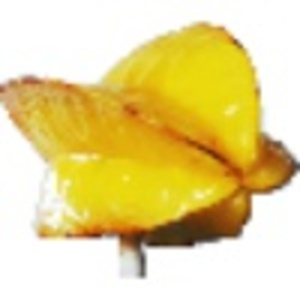carambola: (1, 20, 300, 277)
